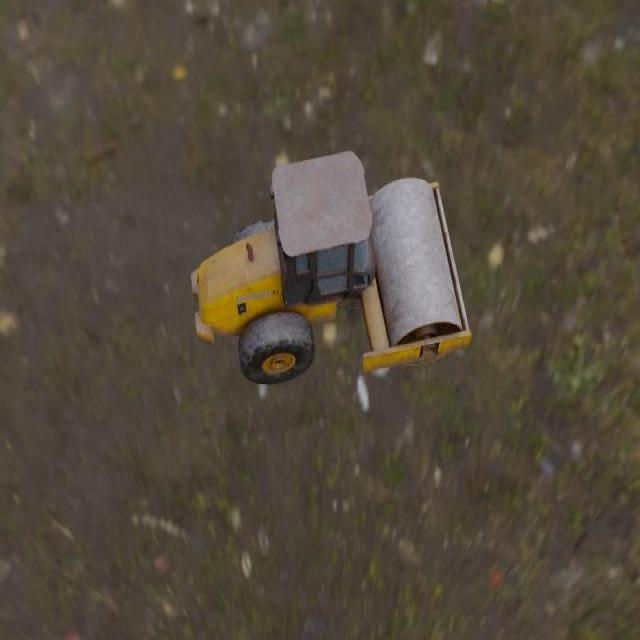Roller: (190, 149, 471, 384)
